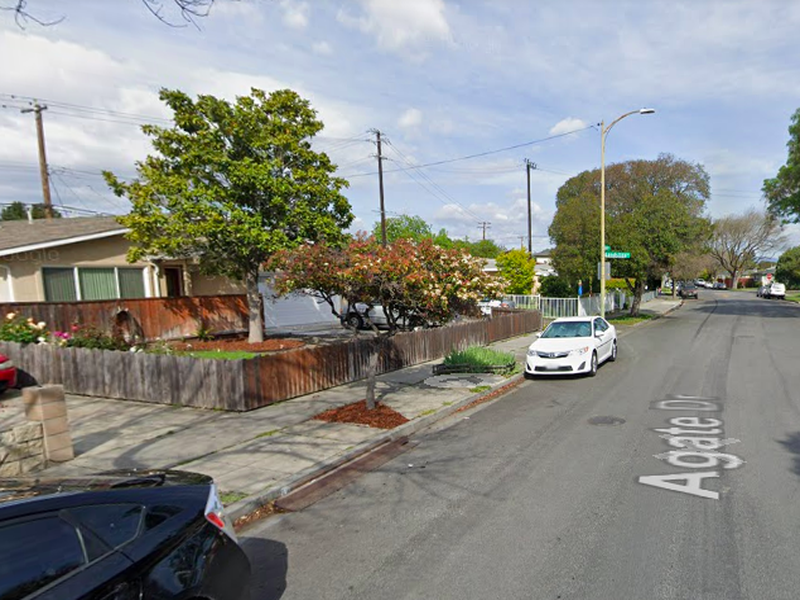tree: (101, 84, 354, 346), (262, 232, 513, 414)
